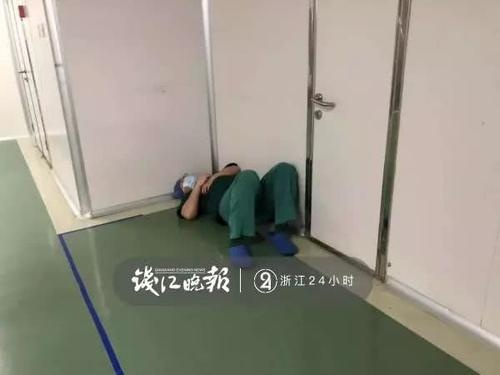falling: (169, 158, 312, 266)
